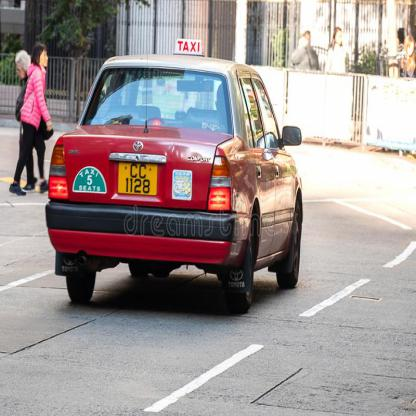taxi: (41, 35, 310, 319)
